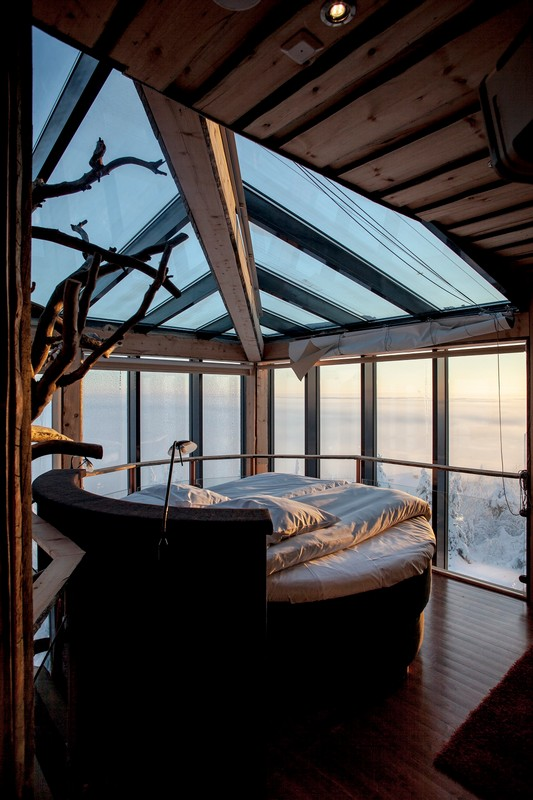bed: (38, 462, 443, 721)
lamp: (152, 433, 202, 556)
